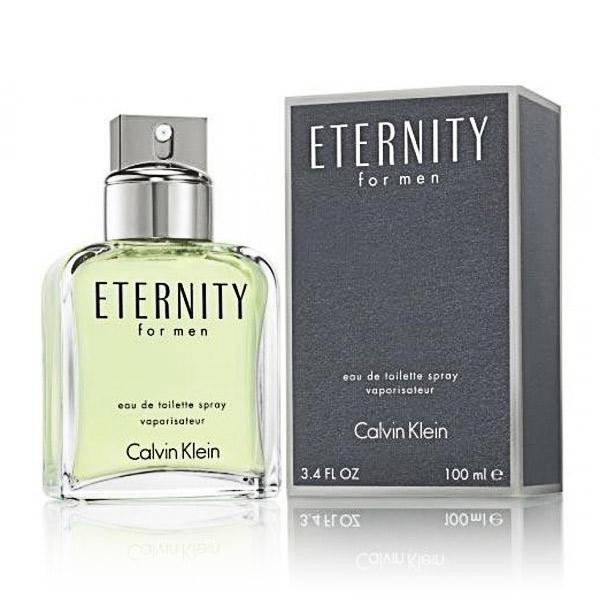Calvin Klein: (348, 409, 459, 450), (126, 428, 227, 470)
